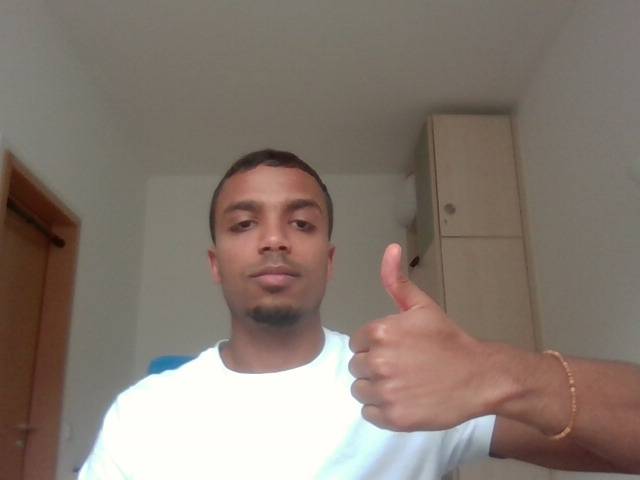yes: (342, 238, 500, 447)
